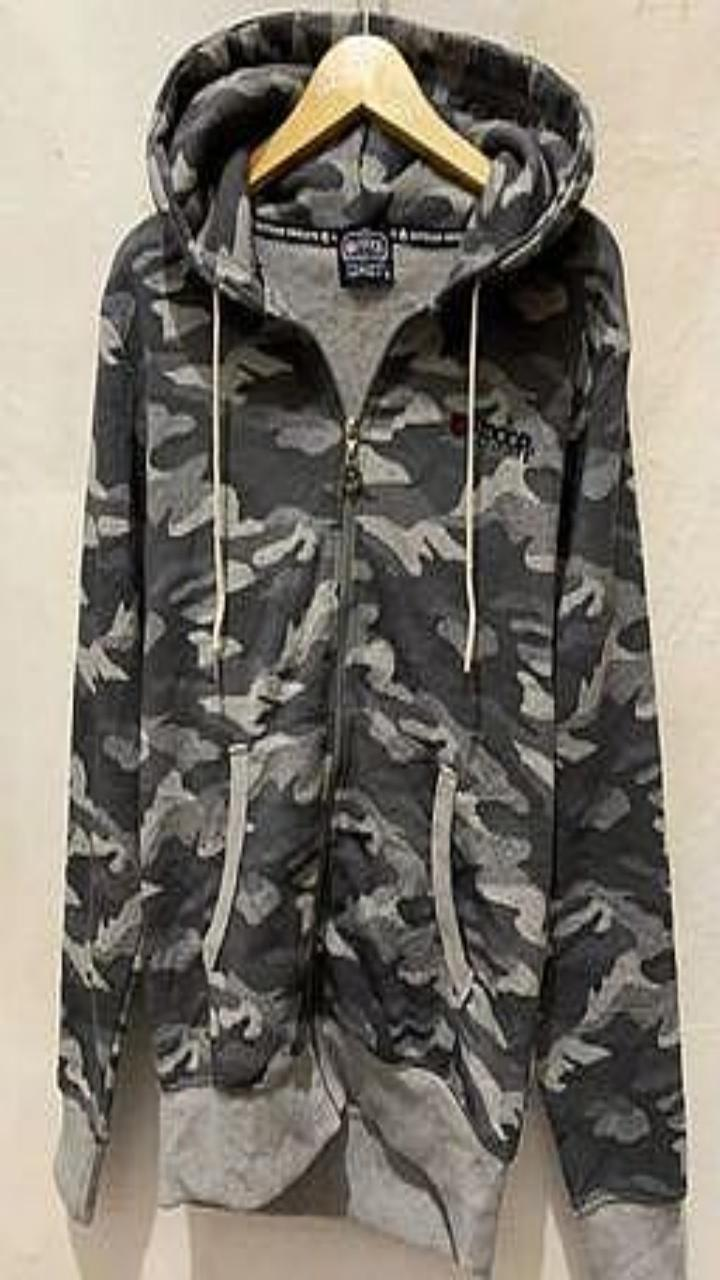Hoodie: (54, 9, 685, 1279)
